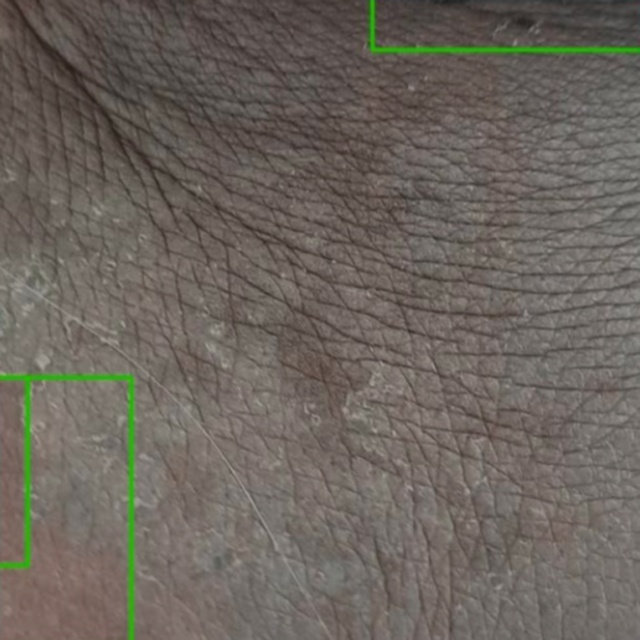Eczema: (0, 378, 131, 639), (372, 0, 639, 49), (0, 377, 28, 565)
